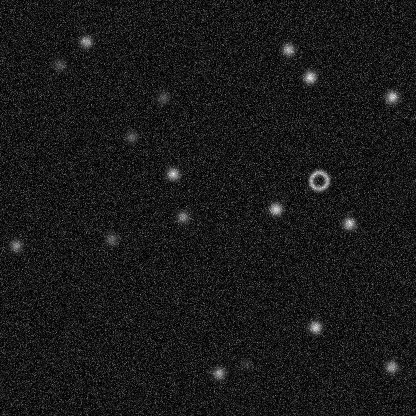Ring: (306, 168, 330, 192)
Spot: (78, 33, 94, 49), (280, 41, 296, 57), (383, 88, 399, 104), (301, 69, 317, 85), (164, 165, 180, 181), (307, 319, 323, 335), (267, 201, 283, 217), (155, 89, 171, 105), (174, 208, 190, 224), (51, 56, 67, 72), (383, 358, 399, 374), (123, 129, 139, 145), (237, 356, 253, 372), (340, 215, 356, 231), (7, 237, 23, 253), (103, 230, 119, 246), (210, 365, 226, 381)
